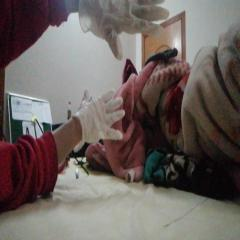gloved: (77, 0, 169, 59), (78, 88, 126, 140)
